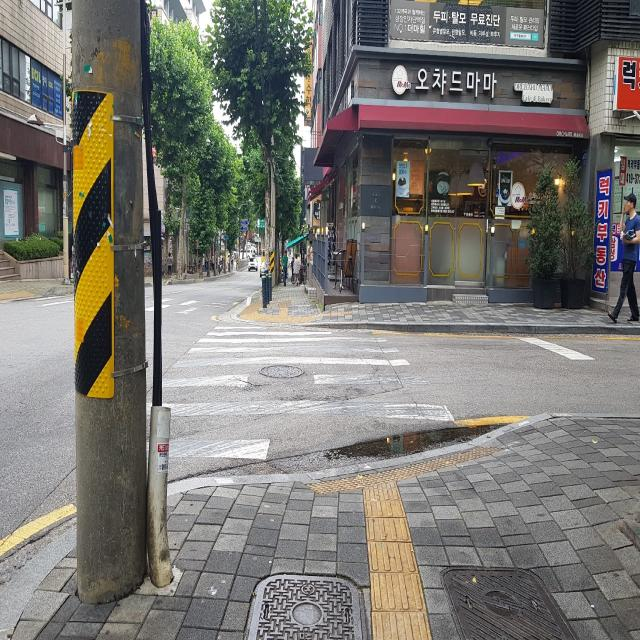횡단보도: (146, 324, 456, 464)
